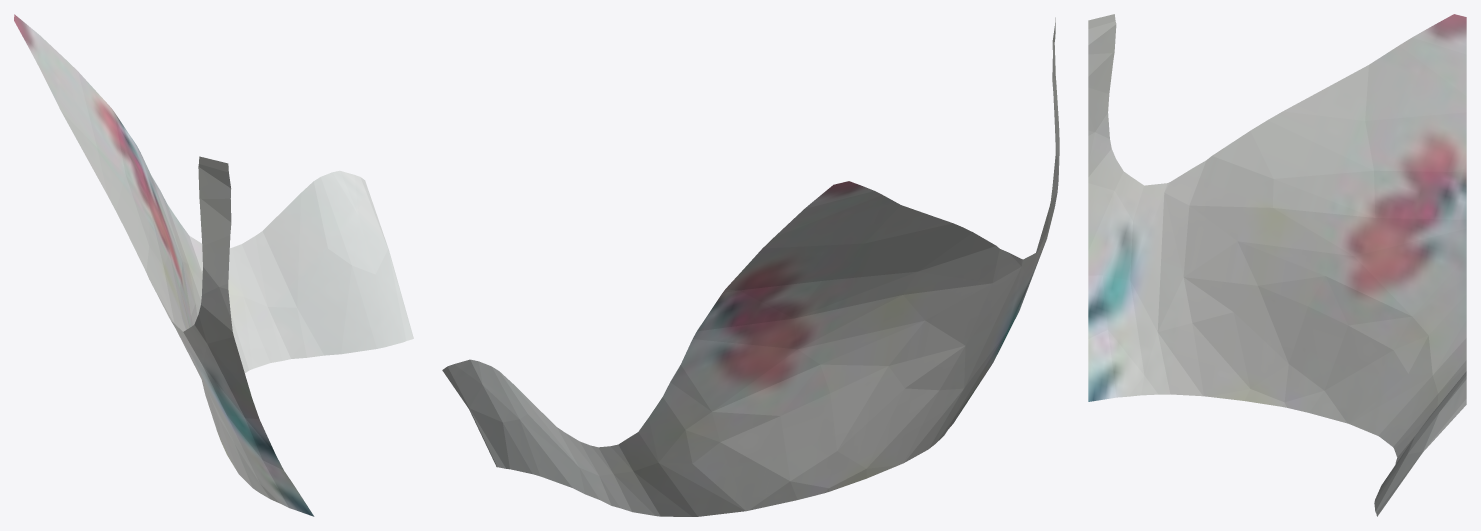
The picture shows the model from 3 angles, left to right: view 1: azimuth 30°, elevation 25°; view 2: azimuth 150°, elevation 25°; view 3: azimuth 270°, elevation 25°; orthographic projection. The views are drawn at different scales.
Parts seen in each view (by area): view 1: 091_W_Aya_100K_01; view 2: 091_W_Aya_100K_01; view 3: 091_W_Aya_100K_01.
Part boxes in pixels (left/top/right/bottom): 091_W_Aya_100K_01: left=14, top=14, right=413, bottom=516; 091_W_Aya_100K_01: left=442, top=17, right=1059, bottom=516; 091_W_Aya_100K_01: left=1088, top=14, right=1466, bottom=516.
Size of the model in its own units: 42.87 by 42.87 by 42.87.
Materials: 1 (1 with a texture image).
